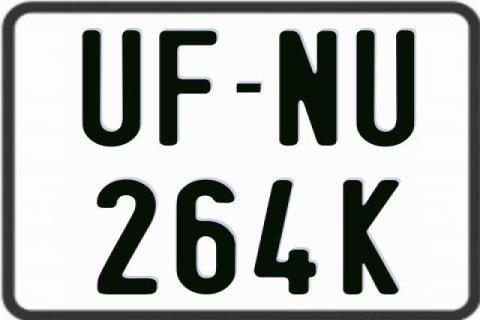0: (253, 178, 320, 296), (96, 178, 158, 294), (176, 177, 237, 292)
F: (159, 28, 222, 145)
K: (342, 178, 400, 294)
N: (278, 31, 340, 150)
U: (354, 28, 415, 148), (80, 30, 142, 146)
